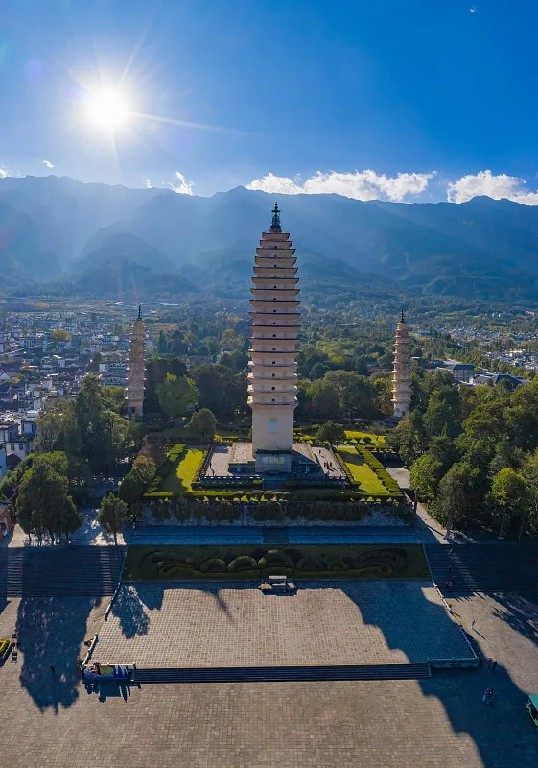ThreePagoda: (246, 201, 299, 456)
